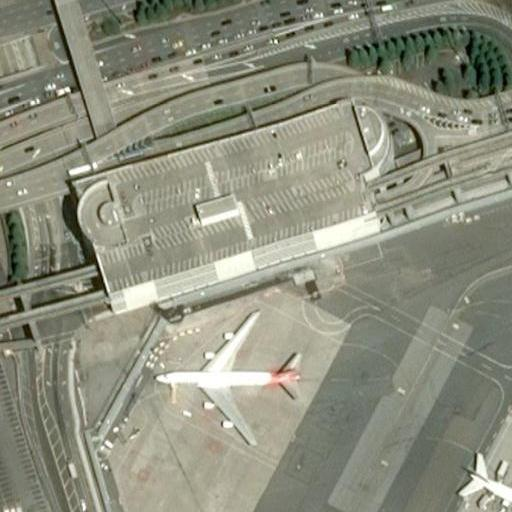Aircraft: (154, 310, 306, 439), (455, 435, 512, 512)
